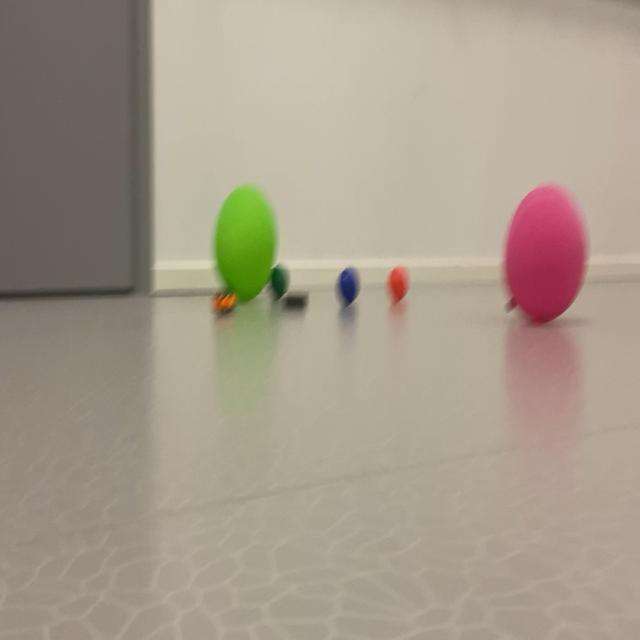7: (382, 252, 413, 330)
green ball: (332, 253, 372, 338)
red ball: (266, 251, 292, 310)
